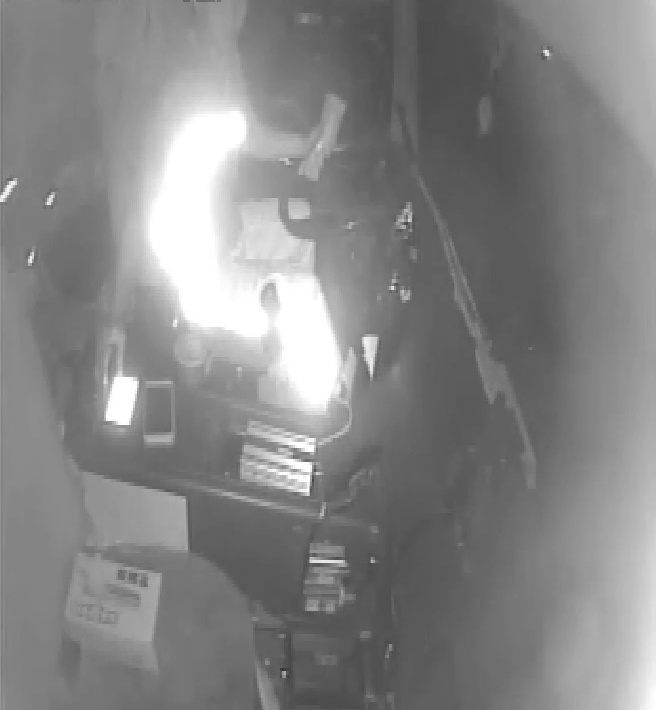cellphone: (101, 362, 141, 429)
